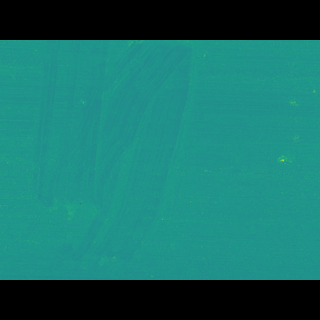Loch: (20, 68, 204, 244)
